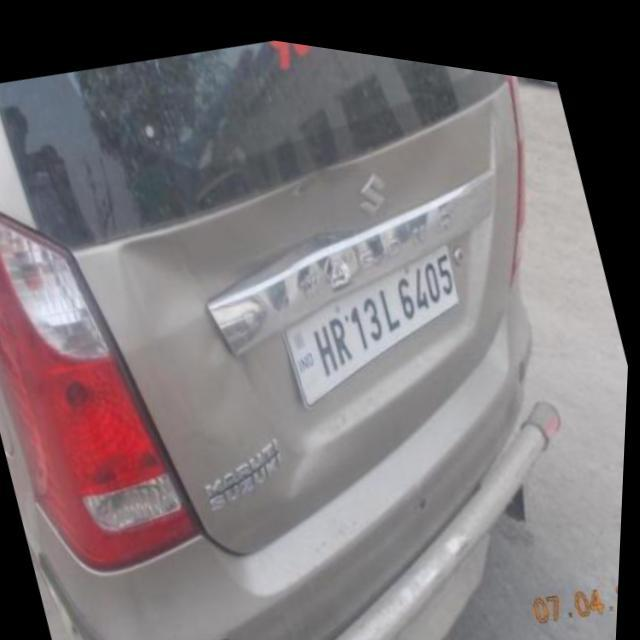dent: (116, 224, 216, 338), (170, 314, 259, 432), (268, 434, 319, 492)
